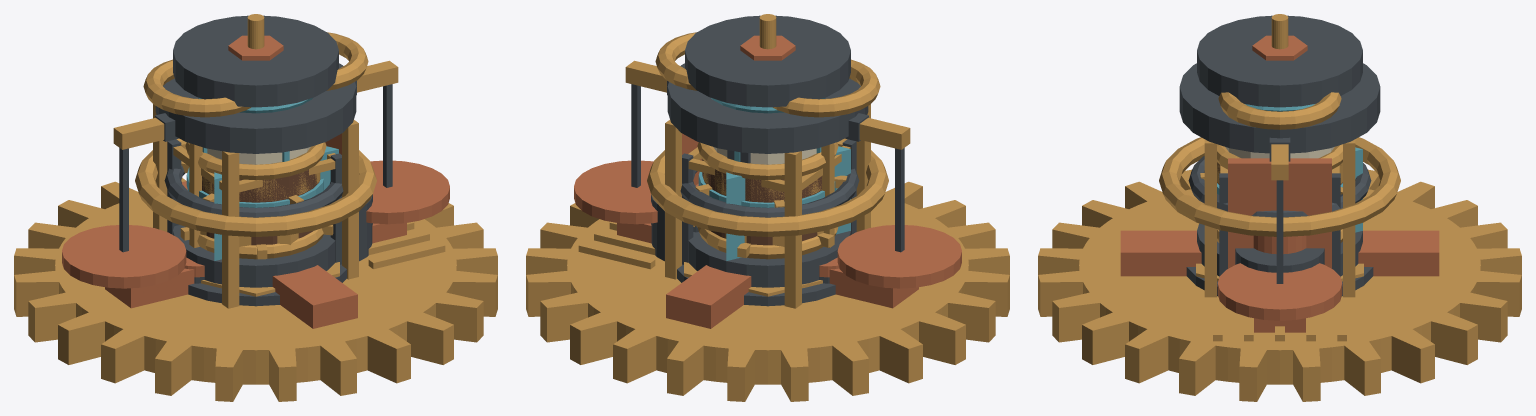
Rendered from puzzle-instruments.glb.
3 renders of one model, left to right at view 1: azimuth 30°, elevation 25°; view 2: azimuth 150°, elevation 25°; view 3: azimuth 270°, elevation 25°, orthographic.
Parts seen in each view (by area): view 1: teeth.002, cap.001, cap, pan, outer, pan.001, port.003, teeth.001, valve_body, frame, inner, left_bow (+26 smaller); view 2: teeth.002, cap.001, cap, pan, outer, pan.001, port.001, teeth.001, valve_body, frame.001, left_bow, inner (+25 smaller); view 3: teeth.002, cap.001, cap, outer, shutter, pan.001, port.001, port.003, teeth.001, right_bow, frame.002, frame.003 (+14 smaller).
Part boxes in pixels (x1=…): teeth.002: x1=14, y1=177, x2=497, y2=401; cap.001: x1=173, y1=15, x2=338, y2=107; cap: x1=155, y1=63, x2=356, y2=153; pan: x1=62, y1=225, x2=186, y2=288; outer: x1=135, y1=138, x2=376, y2=236; pan.001: x1=366, y1=160, x2=449, y2=224; port.003: x1=272, y1=265, x2=357, y2=328; teeth.001: x1=78, y1=212, x2=433, y2=343; valve_body: x1=173, y1=225, x2=335, y2=287; frame: x1=222, y1=151, x2=239, y2=308; inner: x1=164, y1=165, x2=343, y2=217; left_bow: x1=143, y1=59, x2=250, y2=117; teeth.002: x1=526, y1=181, x2=1009, y2=401; cap.001: x1=685, y1=15, x2=850, y2=107; cap: x1=667, y1=63, x2=868, y2=153; pan: x1=837, y1=225, x2=961, y2=288; outer: x1=647, y1=138, x2=888, y2=236; pan.001: x1=574, y1=160, x2=657, y2=224; port.001: x1=666, y1=265, x2=751, y2=328; teeth.001: x1=590, y1=212, x2=945, y2=343; valve_body: x1=688, y1=231, x2=850, y2=287; frame.001: x1=784, y1=151, x2=801, y2=308; left_bow: x1=773, y1=59, x2=880, y2=117; inner: x1=680, y1=168, x2=859, y2=217; teeth.002: x1=1038, y1=169, x2=1521, y2=401; cap.001: x1=1197, y1=15, x2=1362, y2=107; cap: x1=1179, y1=63, x2=1380, y2=153; outer: x1=1159, y1=137, x2=1400, y2=236; shutter: x1=1228, y1=158, x2=1331, y2=268; pan.001: x1=1217, y1=263, x2=1342, y2=320; port.001: x1=1358, y1=230, x2=1439, y2=276; port.003: x1=1120, y1=230, x2=1201, y2=276; teeth.001: x1=1094, y1=195, x2=1462, y2=343; right_bow: x1=1218, y1=92, x2=1341, y2=129; frame.002: x1=1204, y1=139, x2=1216, y2=297; frame.003: x1=1343, y1=139, x2=1355, y2=297.
Size of the model in its own units: 0.6989 by 0.45 by 0.6989.
